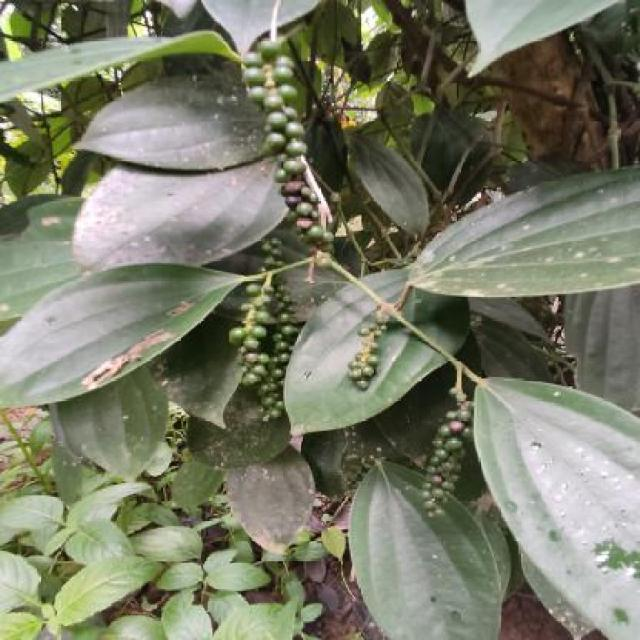UNRIPE: (243, 39, 334, 252), (229, 253, 294, 419), (422, 388, 473, 515), (347, 315, 385, 388), (316, 255, 332, 268)
